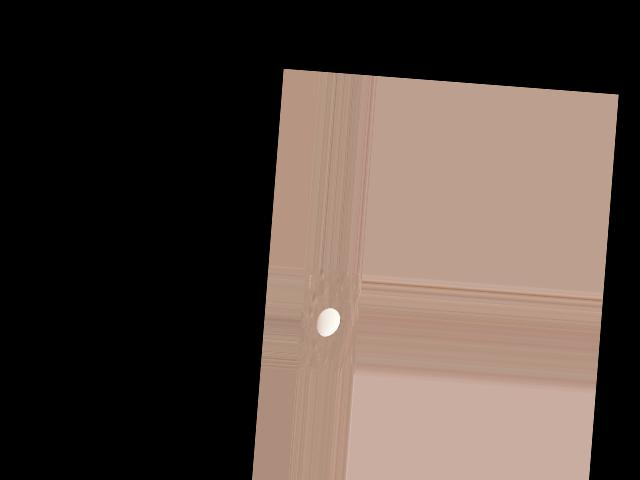egg: (315, 307, 340, 338)
